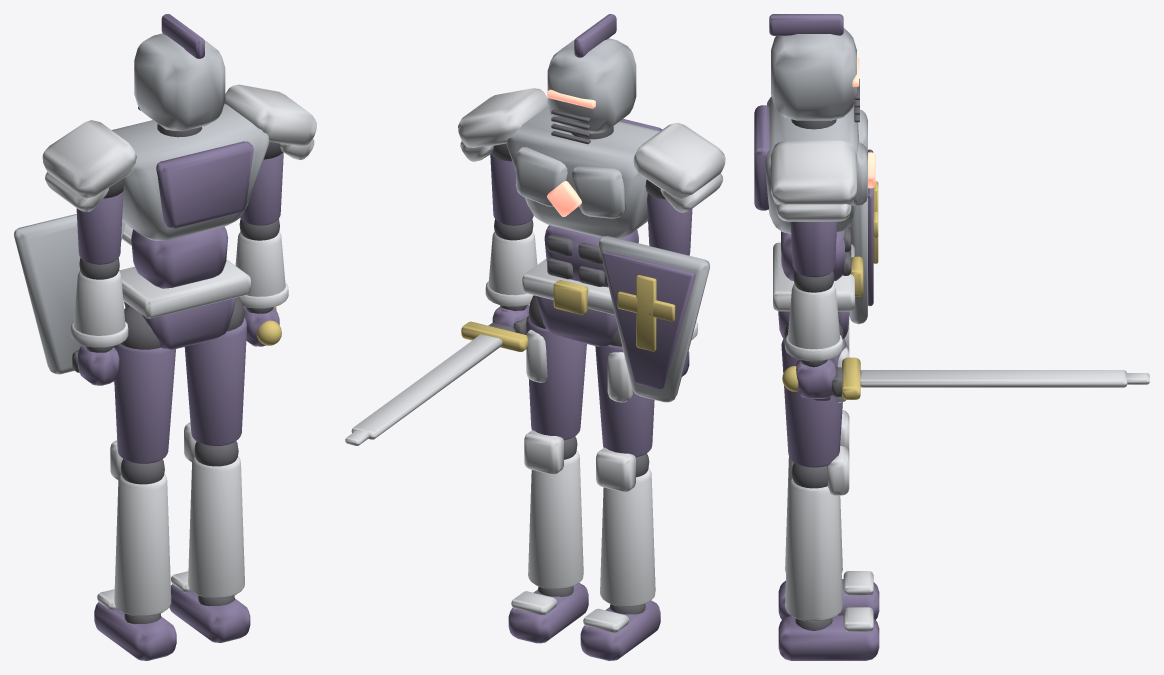
The model's file is knight.glb.
3 views of the same model, side by side, from view 1: azimuth 30°, elevation 25°; view 2: azimuth 150°, elevation 25°; view 3: azimuth 270°, elevation 25° (orthographic). The views are drawn at different scales.
Parts seen in each view (by area): view 1: chest, upper_arm_l, shin_l, shin_r, head, thigh_l, shield, hips, thigh_r, upper_arm_r, abdomen, lower_arm_l (+6 smaller); view 2: chest, shield, head, shin_r, shin_l, upper_arm_l, thigh_r, upper_arm_r, sword, hips, thigh_l, lower_arm_r (+4 smaller); view 3: upper_arm_r, head, shin_r, sword, chest, foot_r, thigh_r, lower_arm_r, hips, shield, hand_r, foot_l (+2 smaller).
Part boxes in pixels (x1,y1,x2,y2): chest: [111, 104, 269, 240]; upper_arm_l: [42, 120, 136, 264]; shin_l: [110, 440, 171, 616]; shin_r: [184, 422, 244, 598]; head: [134, 14, 225, 131]; thigh_l: [113, 306, 175, 463]; shield: [14, 214, 125, 374]; hips: [119, 259, 250, 349]; thigh_r: [184, 297, 246, 445]; upper_arm_r: [224, 84, 316, 225]; abdomen: [131, 226, 228, 288]; lower_arm_l: [71, 258, 128, 347]; chest: [506, 106, 662, 238]; shield: [599, 236, 709, 402]; head: [547, 14, 636, 144]; shin_r: [524, 430, 583, 589]; shin_l: [596, 447, 655, 606]; upper_arm_l: [633, 123, 725, 255]; thigh_r: [526, 295, 586, 440]; upper_arm_r: [458, 88, 547, 225]; sword: [345, 308, 528, 445]; hips: [522, 259, 617, 346]; thigh_l: [595, 328, 654, 457]; lower_arm_r: [485, 219, 537, 306]; upper_arm_r: [771, 140, 856, 277]; head: [769, 14, 859, 122]; shin_r: [785, 446, 849, 621]; sword: [782, 357, 1149, 400]; chest: [754, 96, 875, 233]; foot_r: [778, 607, 879, 660]; thigh_r: [781, 323, 849, 467]; lower_arm_r: [785, 271, 842, 361]; hips: [773, 242, 863, 338]; shield: [849, 149, 878, 324]; hand_r: [796, 358, 843, 398]; foot_l: [778, 571, 879, 619].
Size of the model in its own units: 0.823 by 1.84 by 1.06.
